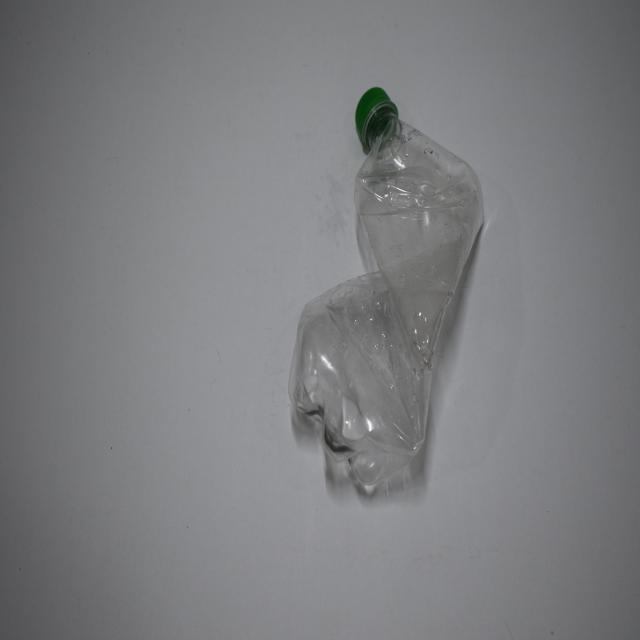bottle: (292, 81, 484, 491)
